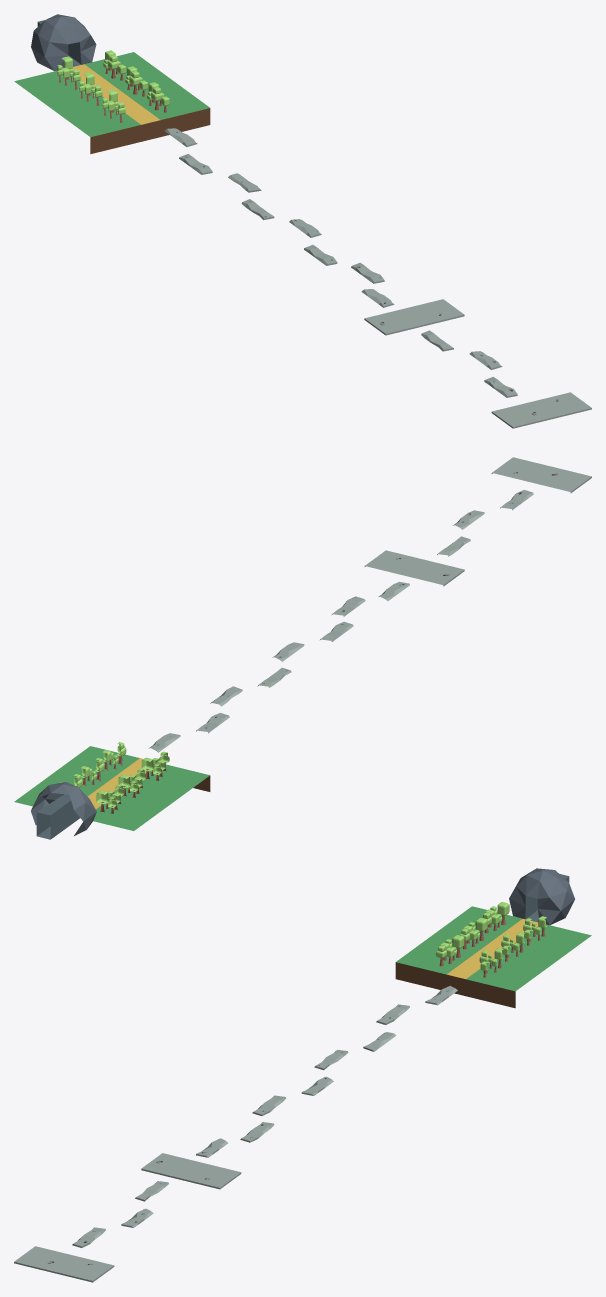
Rendered from road2 1.fbx.
The picture shows the model from 3 angles, top to bottom: view 1: azimuth 30°, elevation 25°; view 2: azimuth 150°, elevation 25°; view 3: azimuth 330°, elevation 25°; orthographic projection.
Parts seen in each view (by area): view 1: Вход в пещеру.002, Платформа 1, Платформа 2, Деревья3.001; view 2: Вход в пещеру.002, Платформа 1, Платформа 2, Деревья3.001; view 3: Вход в пещеру.002, Платформа 1, Платформа 2, Деревья3.001.
Part boxes in pixels (bbox=[...]): Вход в пещеру.002: bbox=[14, 14, 210, 154]; Платформа 1: bbox=[165, 128, 464, 335]; Платформа 2: bbox=[176, 131, 591, 428]; Деревья3.001: bbox=[57, 50, 169, 122]; Вход в пещеру.002: bbox=[14, 746, 210, 839]; Платформа 1: bbox=[148, 550, 464, 752]; Платформа 2: bbox=[157, 457, 591, 745]; Деревья3.001: bbox=[60, 742, 169, 813]; Вход в пещеру.002: bbox=[395, 868, 591, 1008]; Платформа 1: bbox=[141, 986, 457, 1189]; Платформа 2: bbox=[14, 990, 448, 1282]; Деревья3.001: bbox=[436, 902, 546, 977].
Size of the model in its own units: 34218 by 15896 by 251195.
